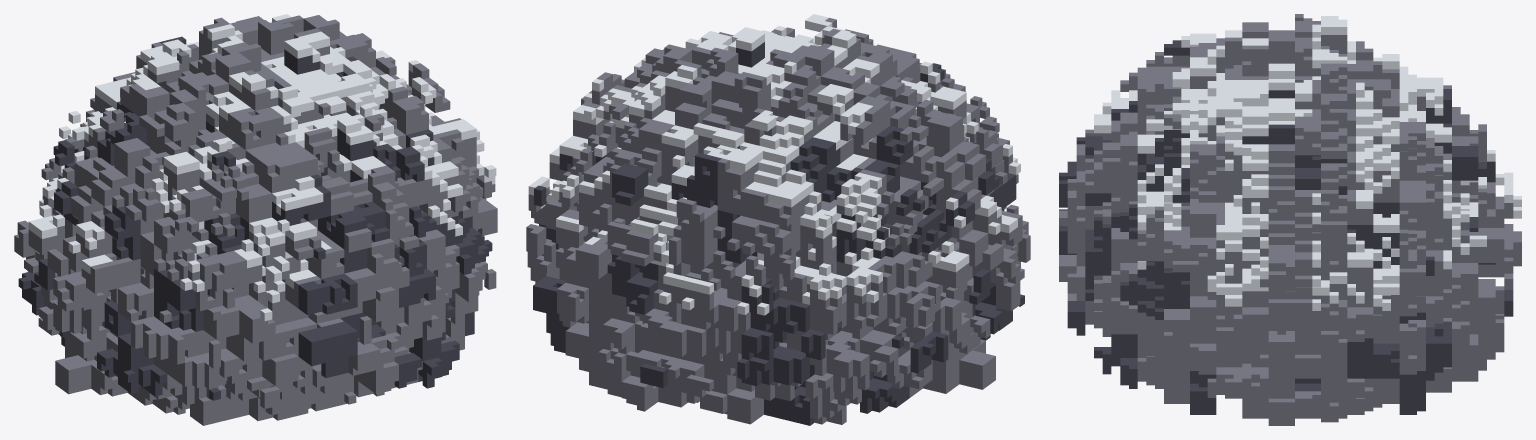
Rendered from rock_alpine_2.obj.
3 views of the same model, side by side, from view 1: azimuth 30°, elevation 25°; view 2: azimuth 150°, elevation 25°; view 3: azimuth 270°, elevation 25° (orthographic).
Bounding box in the file's own units: 1.4 × 0.9 × 1.33.
Materials: 1 (1 with a texture image).
